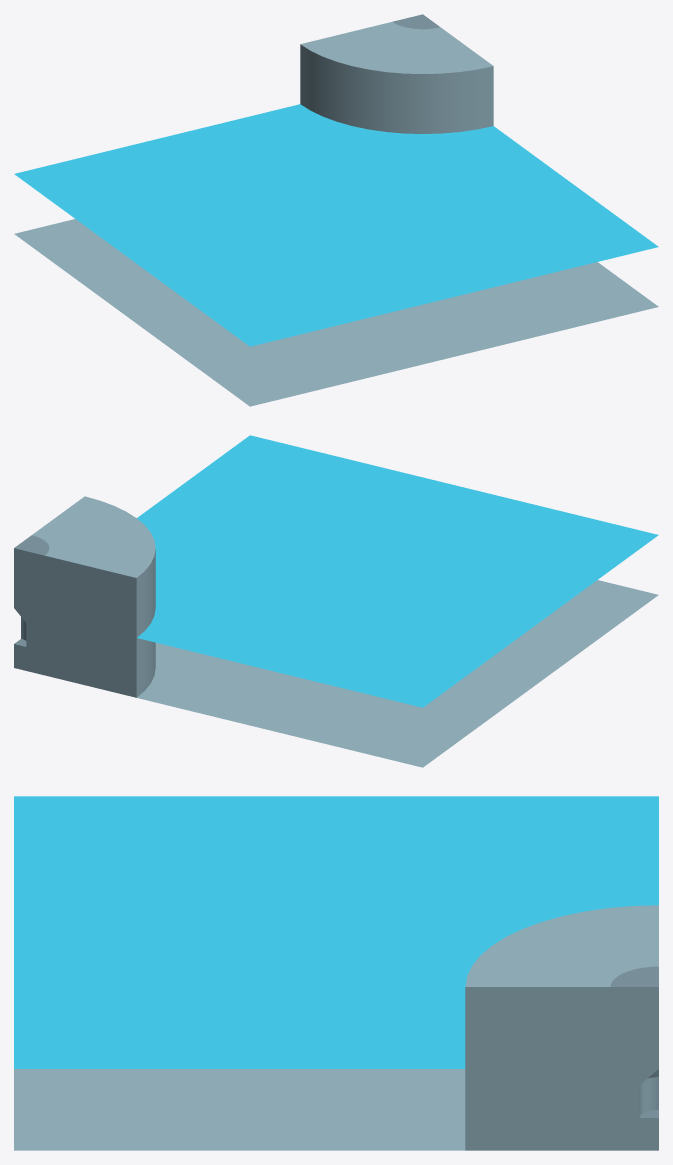
File: fountainCornerInner.dae
3 views of the same model, one above another, from view 1: azimuth 30°, elevation 25°; view 2: azimuth 150°, elevation 25°; view 3: azimuth 270°, elevation 25° (orthographic). The views are drawn at different scales.
Visible parts, largest first — view 1: fountainCornerInner; view 2: fountainCornerInner; view 3: fountainCornerInner.
Boxes of the visible parts, left/top/right/bottom form: fountainCornerInner: left=14, top=14, right=658, bottom=406; fountainCornerInner: left=14, top=435, right=658, bottom=767; fountainCornerInner: left=14, top=796, right=658, bottom=1150.
Size of the model in its own units: 1 by 0.28 by 1.
